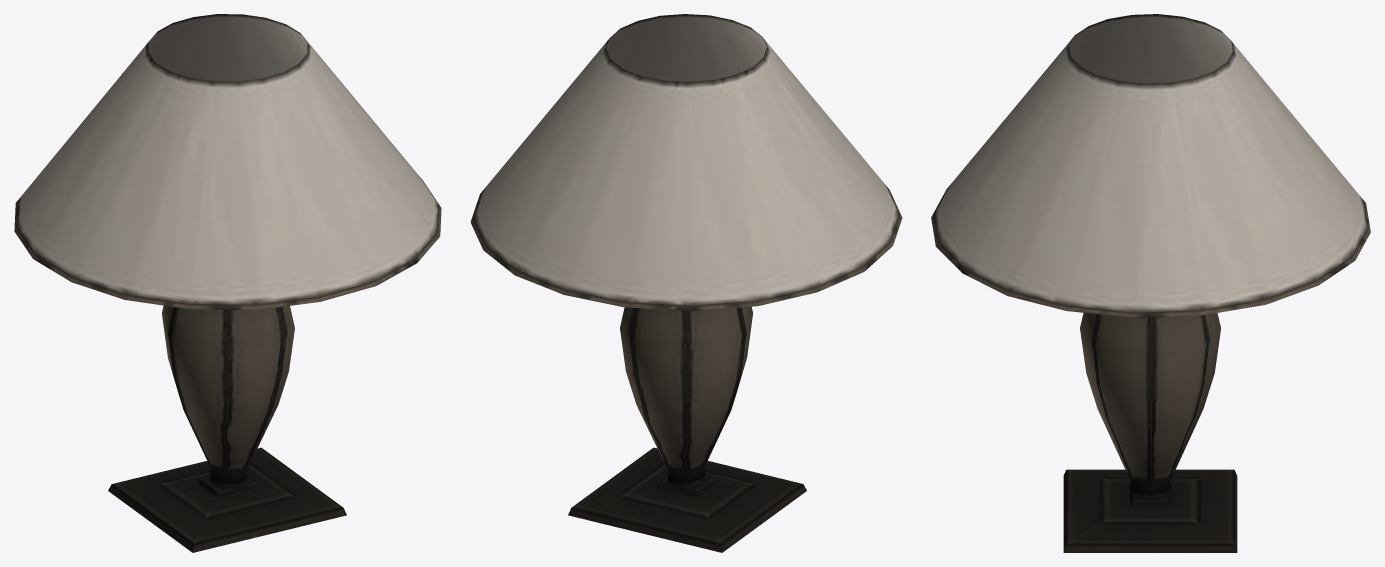
The model's file is TableLamp02.FBX.
3 views of the same model, side by side, from view 1: azimuth 30°, elevation 25°; view 2: azimuth 150°, elevation 25°; view 3: azimuth 270°, elevation 25° (orthographic). The views are drawn at different scales.
Parts seen in each view (by area): view 1: TableLamp02; view 2: TableLamp02; view 3: TableLamp02.
Part boxes in pixels (x1=…): TableLamp02: x1=14, y1=14, x2=441, y2=552; TableLamp02: x1=470, y1=14, x2=902, y2=552; TableLamp02: x1=931, y1=14, x2=1370, y2=552.
Bounding box in the file's own units: 79.31 × 92.48 × 79.08.
